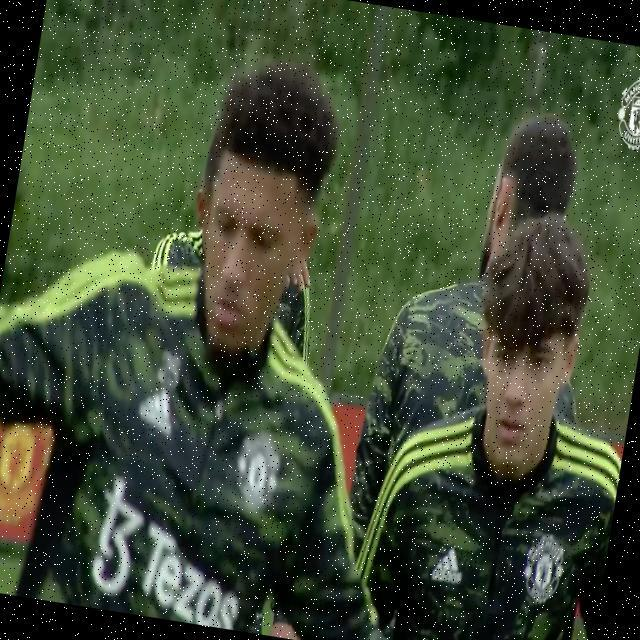Adidas: (136, 384, 179, 439), (430, 543, 467, 587)
